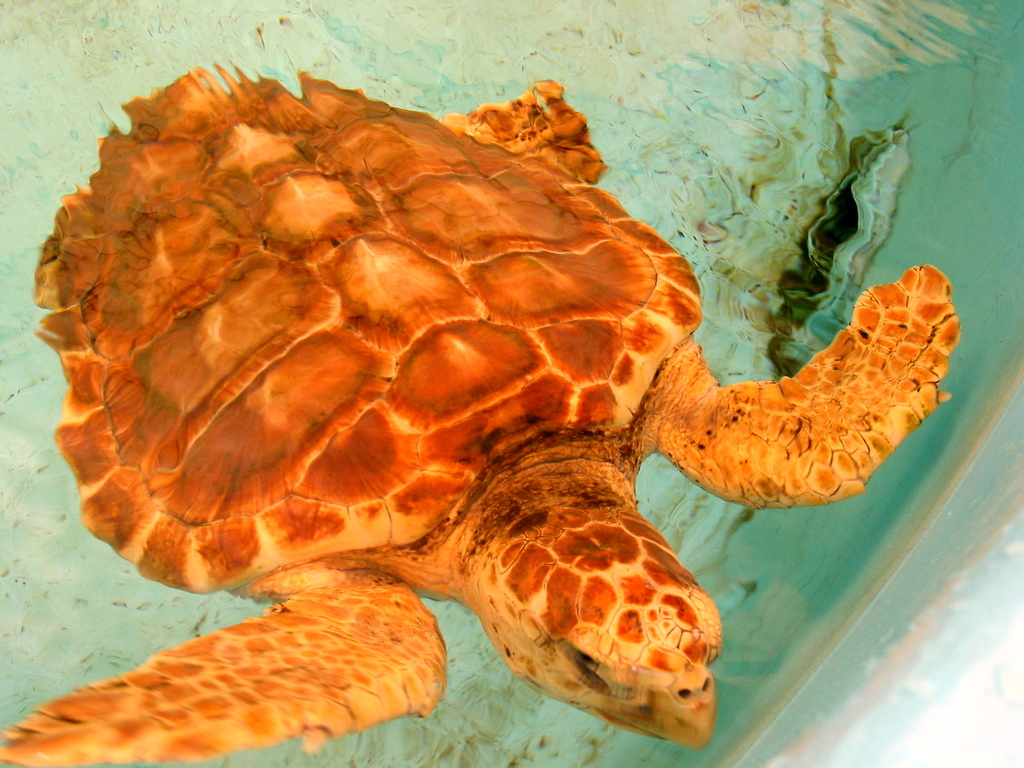Sea turtles: (0, 56, 961, 767)
